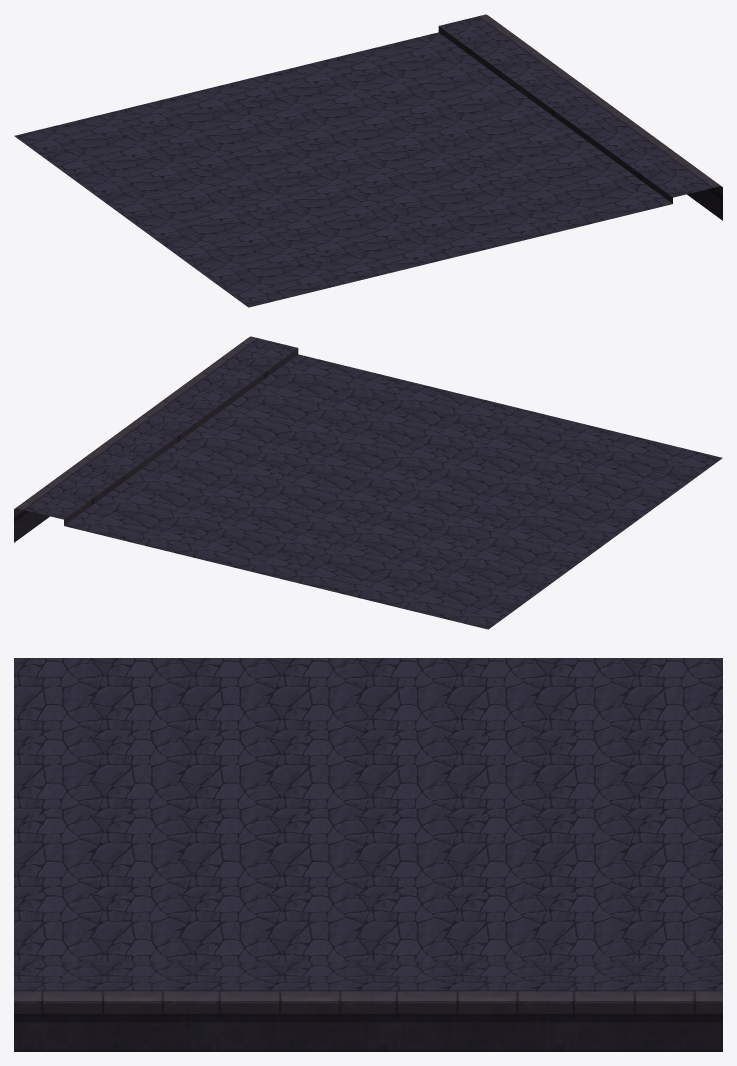
Rendered from modelFloor1-1.fbx.
3 views of the same model, one above another, from view 1: azimuth 30°, elevation 25°; view 2: azimuth 150°, elevation 25°; view 3: azimuth 270°, elevation 25° (orthographic). The views are drawn at different scales.
Visible parts, largest first — view 1: polySurface1; view 2: polySurface1; view 3: polySurface1.
Boxes of the visible parts, bbox=[...] form: polySurface1: bbox=[14, 14, 722, 307]; polySurface1: bbox=[14, 336, 722, 629]; polySurface1: bbox=[14, 658, 722, 1051].
Size of the model in its own units: 467 by 33.38 by 400.
